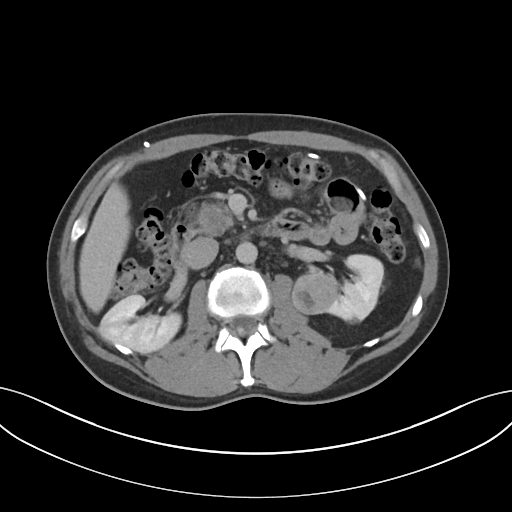Lesion: (291, 270, 342, 321)
